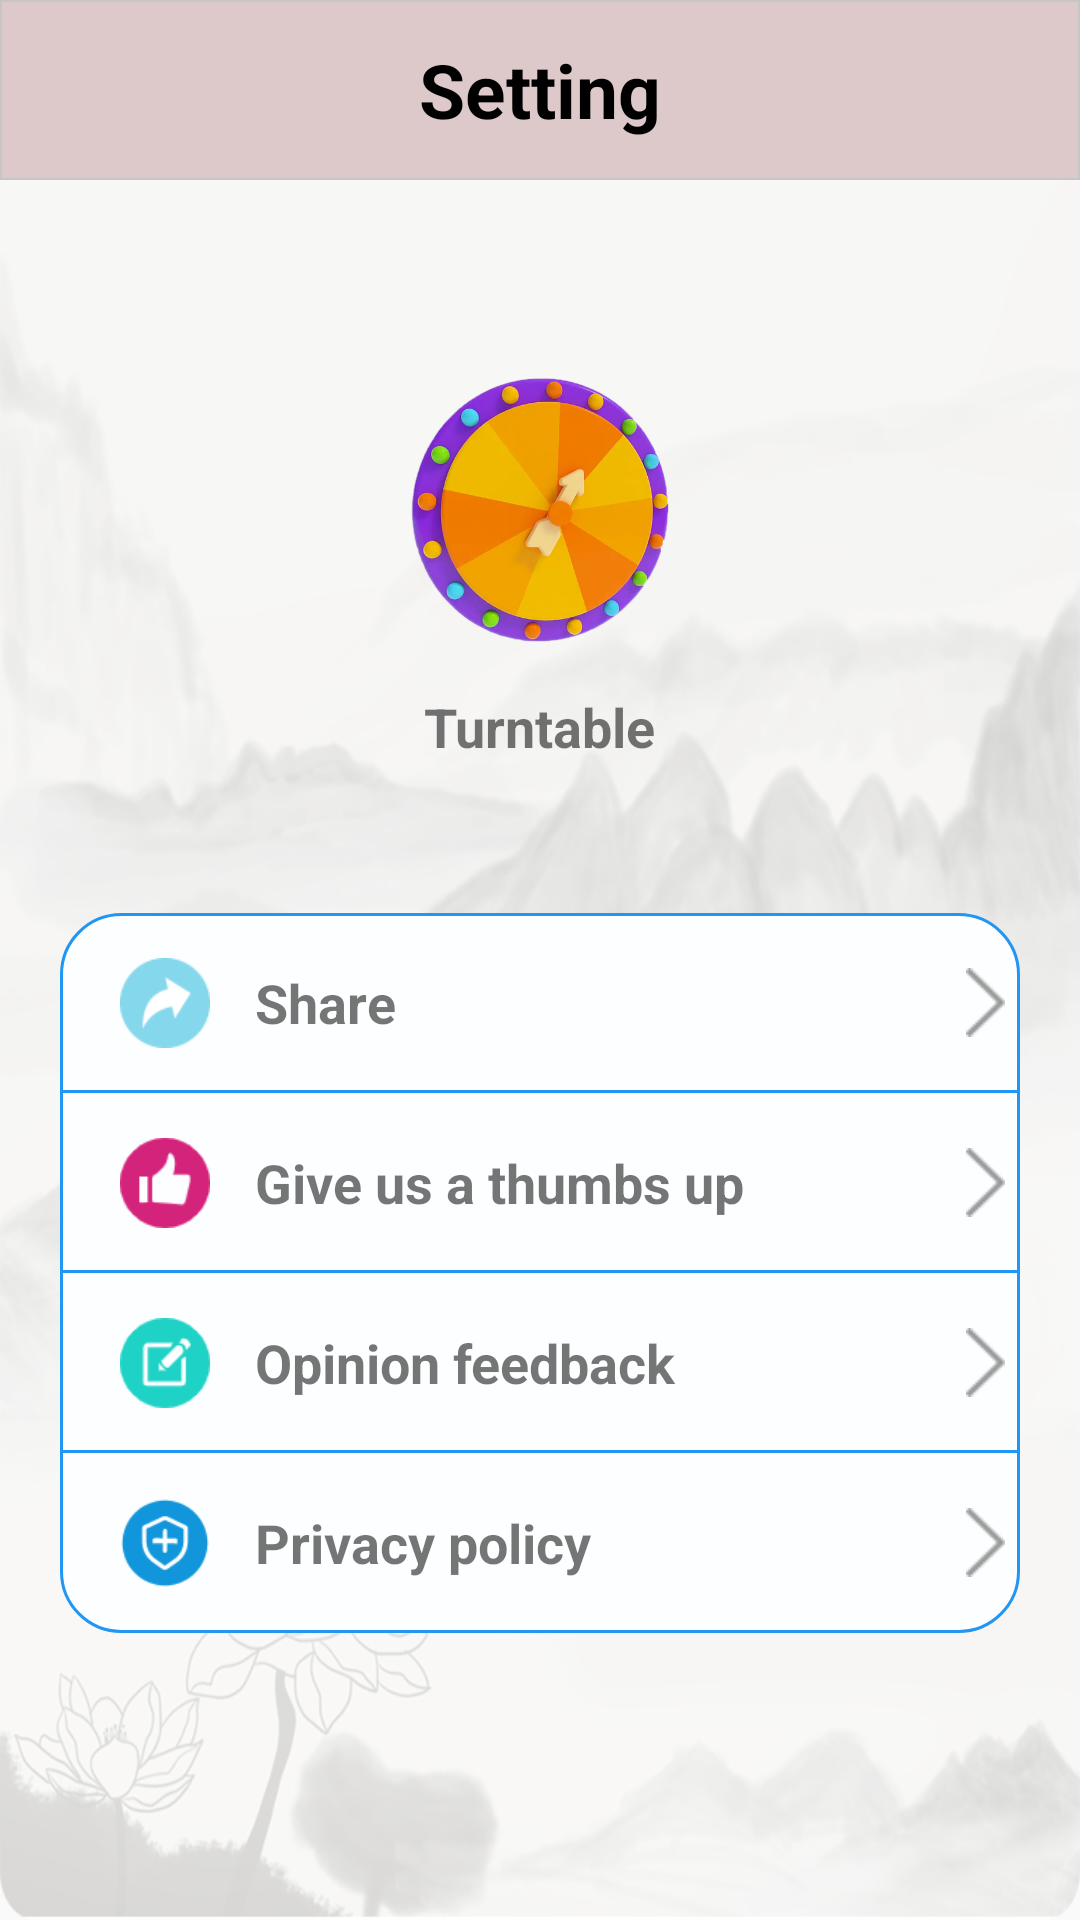

Named icons in this screenshot (1080w x 1920h) and their bounding boxes, [left=x1, top=y1, right=x2, bottom=y2]:
mine feedback: [left=120, top=1318, right=210, bottom=1408]
mine support: [left=120, top=1138, right=210, bottom=1228]
right: [left=966, top=968, right=1005, bottom=1037], [left=966, top=1148, right=1005, bottom=1217], [left=966, top=1328, right=1005, bottom=1397], [left=966, top=1508, right=1005, bottom=1577]
setting privacy: [left=121, top=1499, right=209, bottom=1587]
